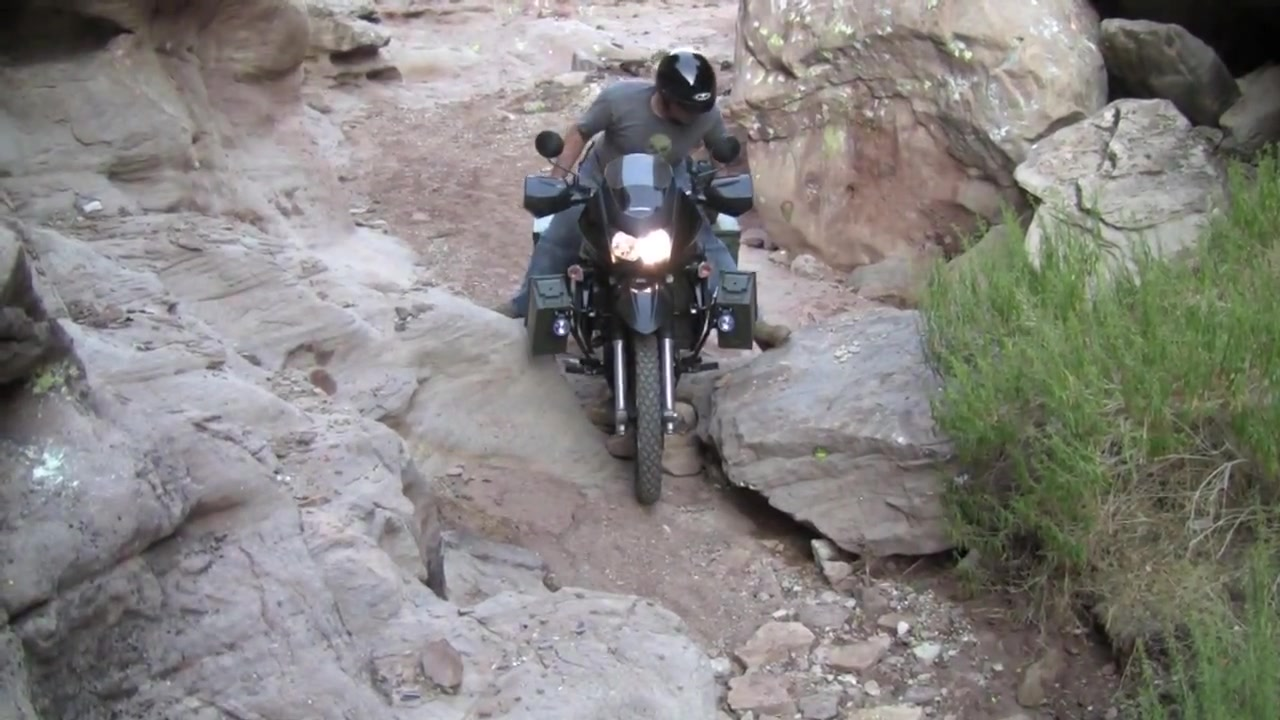motorbike: (517, 137, 760, 510)
